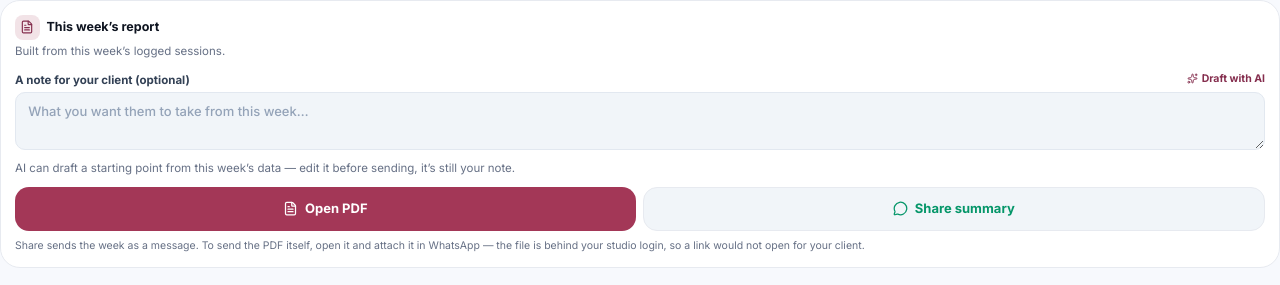
Test: Draft with AI › fills the note with the drafted motivation message, and nothing else happens
Click the button "Draft with AI".
click(1226, 79)  # box [1187,71,1265,87]
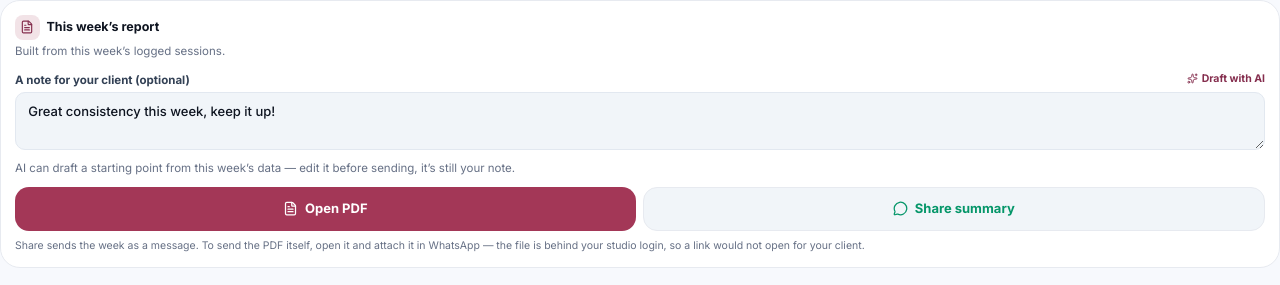
Check: the text box with placeholder "What you want them to take from this week…" holds "Great consistency this week, keep it up!", box [15,92,1265,150]
